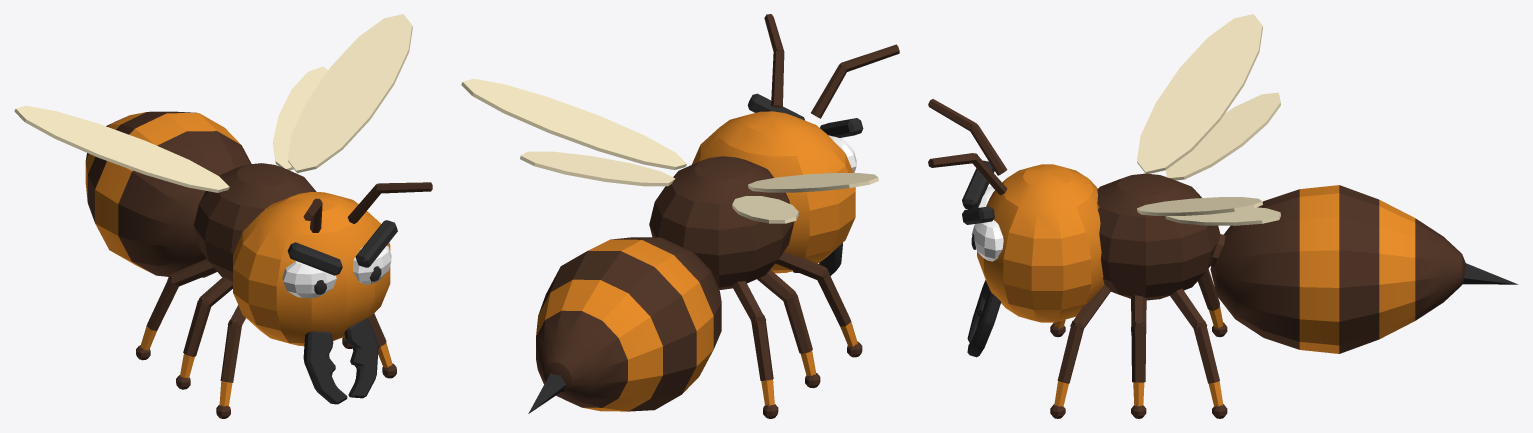
Rendered from giant_hornet.fbx.
3 views of the same model, side by side, from view 1: azimuth 30°, elevation 25°; view 2: azimuth 150°, elevation 25°; view 3: azimuth 270°, elevation 25° (orthographic). The views are drawn at different scales.
Parts seen in each view (by area): view 1: Body, WingL, WingR, Mandibles; view 2: Body, WingL, WingR; view 3: Body, WingR, WingL, Mandibles.
Boxes of the visible parts, x1,y1,x2,y2 form: Body: (85, 111, 432, 418); WingL: (273, 14, 412, 173); WingR: (14, 105, 229, 192); Mandibles: (303, 318, 378, 404); Body: (528, 14, 899, 418); WingL: (461, 78, 686, 186); WingR: (732, 173, 878, 223); Body: (928, 99, 1518, 418); WingR: (1137, 14, 1280, 180); WingL: (1137, 197, 1280, 225); Mandibles: (967, 280, 1001, 357).
Size of the model in its own units: 0.2027 by 0.1321 by 0.2639.
1 material, 1 textured.
